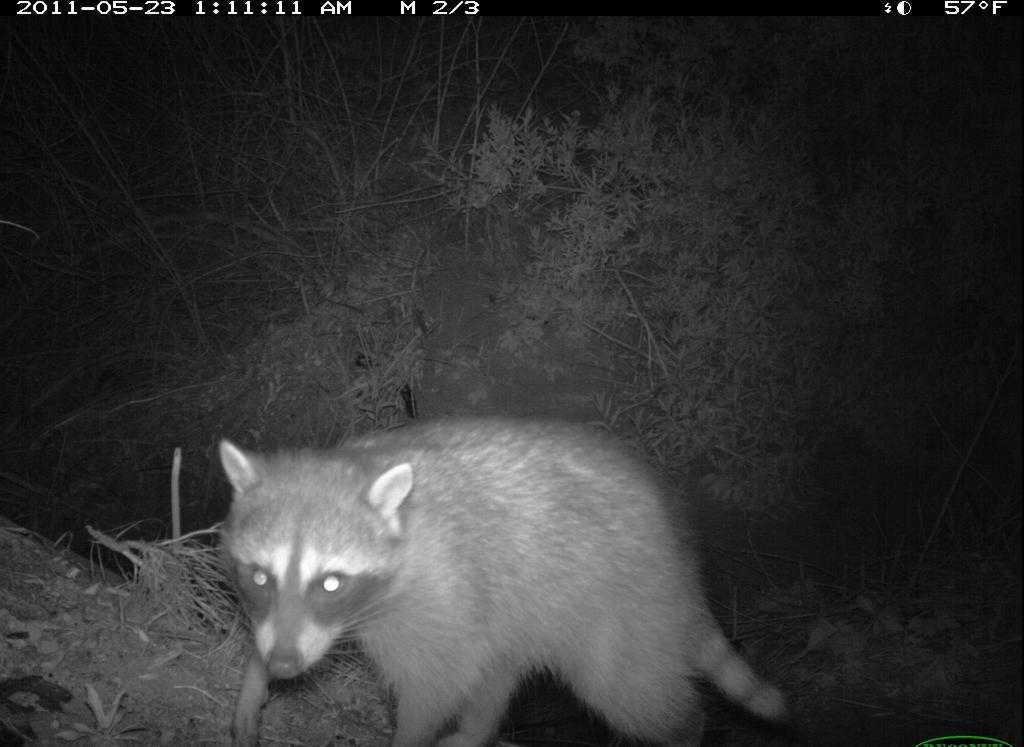raccoon: (208, 402, 797, 740)
